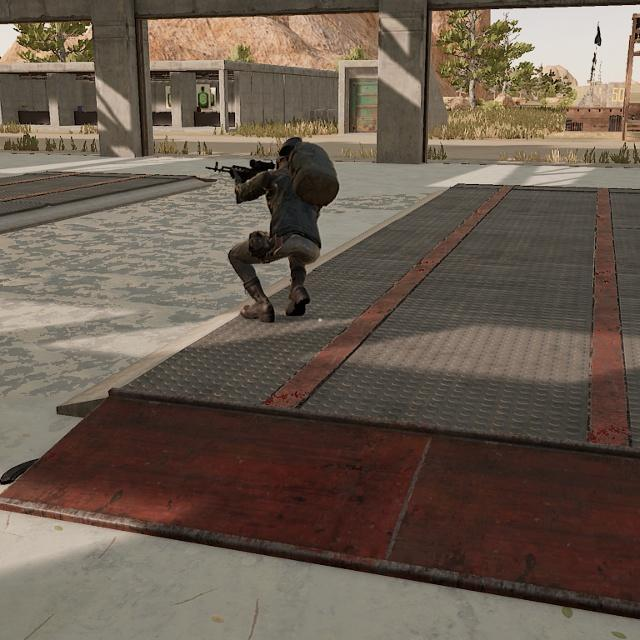people: (221, 133, 335, 328)
